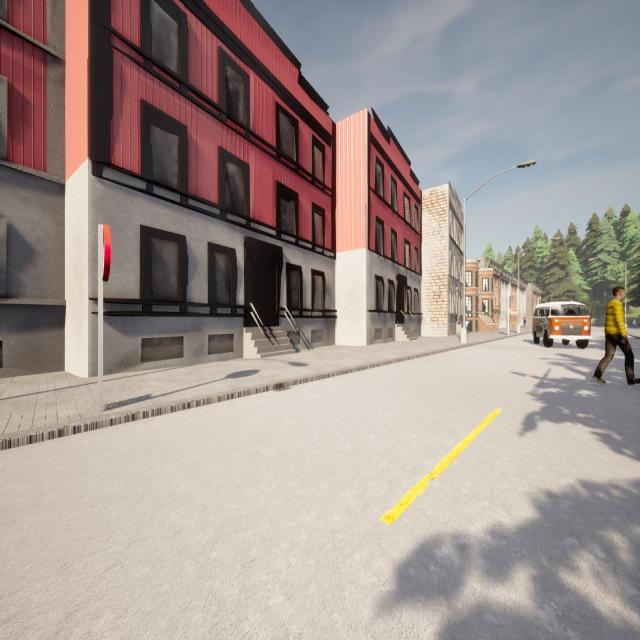Pedestrian: (593, 286, 639, 384), (522, 313, 528, 328), (632, 318, 637, 330), (512, 320, 515, 330)
Traffic_Signs: (100, 224, 111, 284)
Vehicle: (532, 301, 590, 348)
traffic_light: (506, 296, 511, 308)
